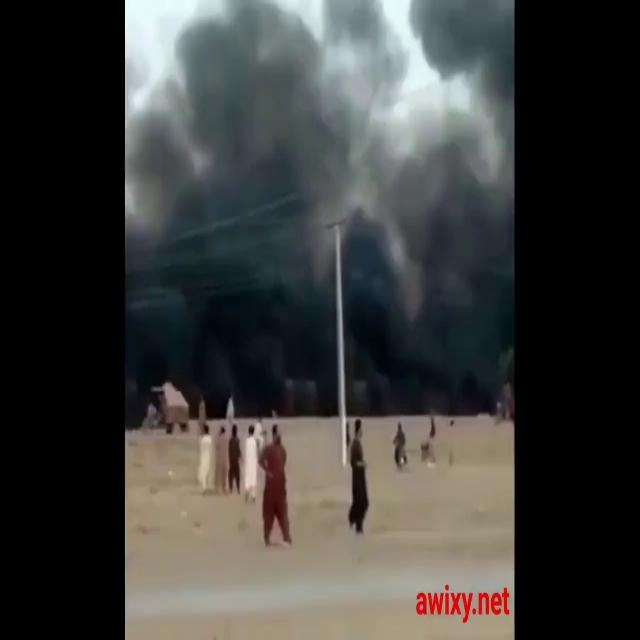Smoke: (124, 0, 504, 419), (408, 0, 512, 135)
